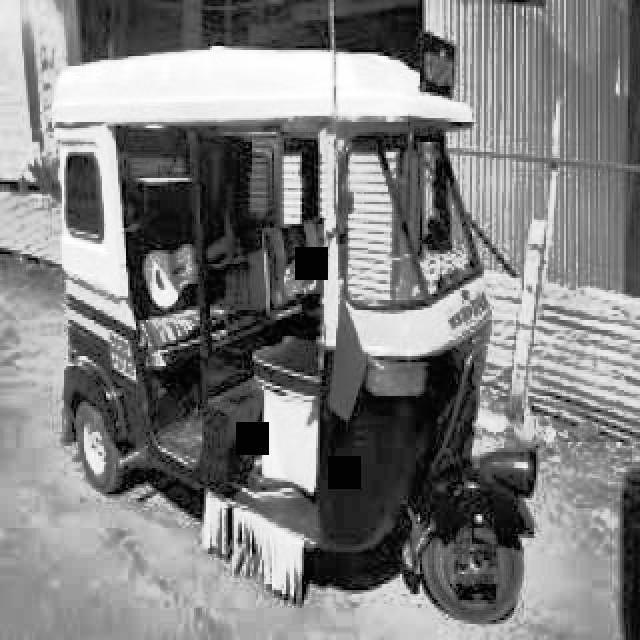Auto-Rickshaw: (36, 54, 566, 636)
